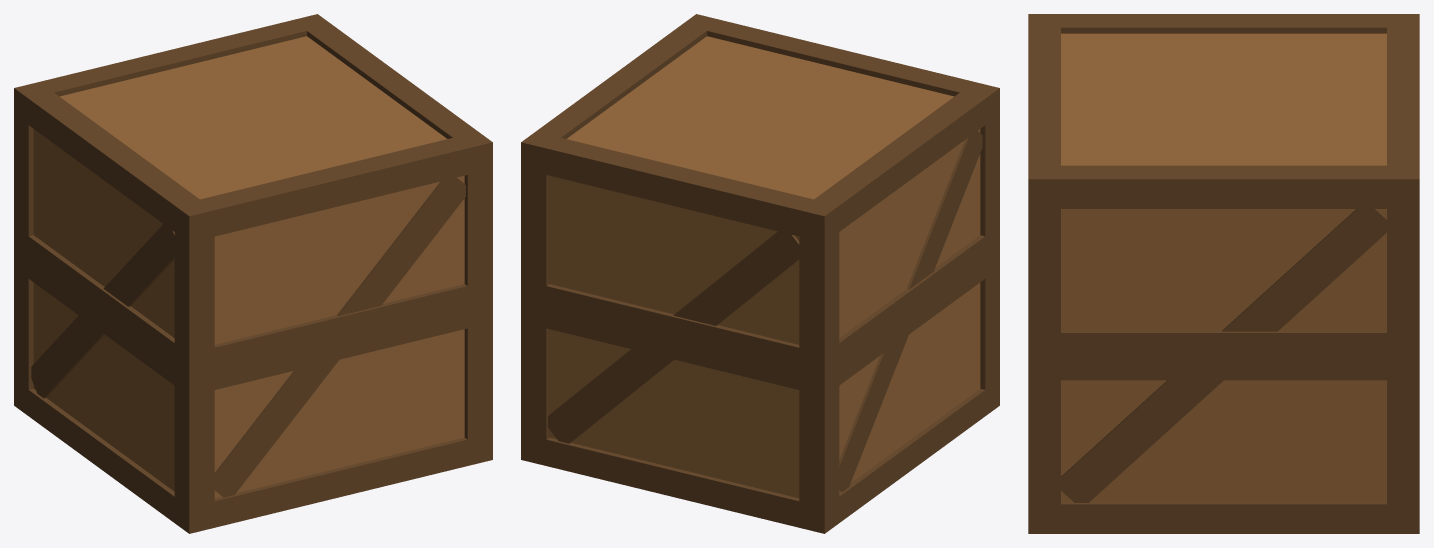
File: wood-crate.gltf
3 renders of one model, left to right at view 1: azimuth 30°, elevation 25°; view 2: azimuth 150°, elevation 25°; view 3: azimuth 270°, elevation 25°, orthographic. The views are drawn at different scales.
Visible parts, largest first — view 1: Mesh_Body, Mesh_RailXLowBack; view 2: Mesh_Body, Mesh_RailXLowBack; view 3: Mesh_Body, Mesh_RailXLowBack.
Boxes of the visible parts, x1=… form: Mesh_Body: x1=33, y1=36, x2=464, y2=498; Mesh_RailXLowBack: x1=14, y1=14, x2=492, y2=533; Mesh_Body: x1=549, y1=36, x2=980, y2=498; Mesh_RailXLowBack: x1=521, y1=14, x2=999, y2=533; Mesh_Body: x1=1061, y1=33, x2=1386, y2=501; Mesh_RailXLowBack: x1=1028, y1=14, x2=1419, y2=533.
Size of the model in its own units: 1.2 by 1.2 by 1.2.
